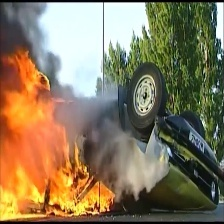fire: (0, 38, 107, 221)
